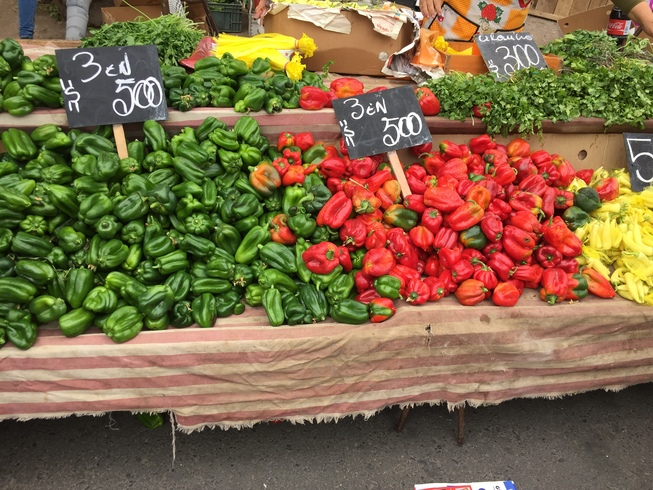precio: (50, 45, 176, 124), (328, 80, 441, 165), (466, 26, 560, 95), (618, 121, 653, 207)
